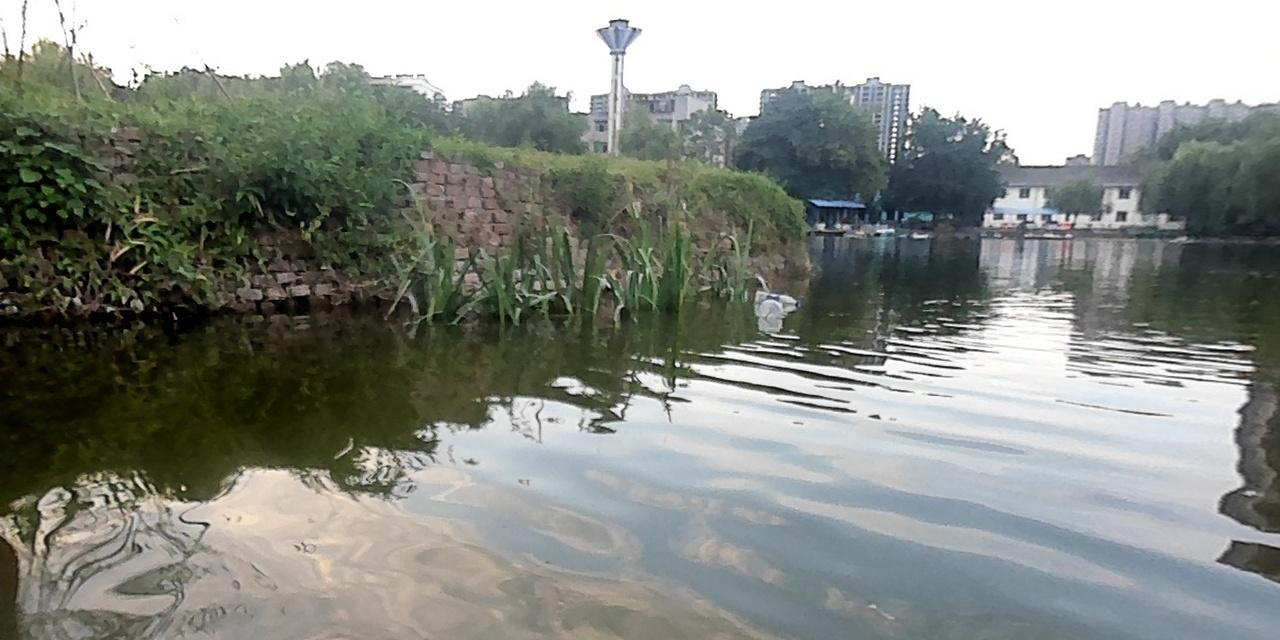bottle: (750, 286, 799, 308), (752, 297, 787, 322)
